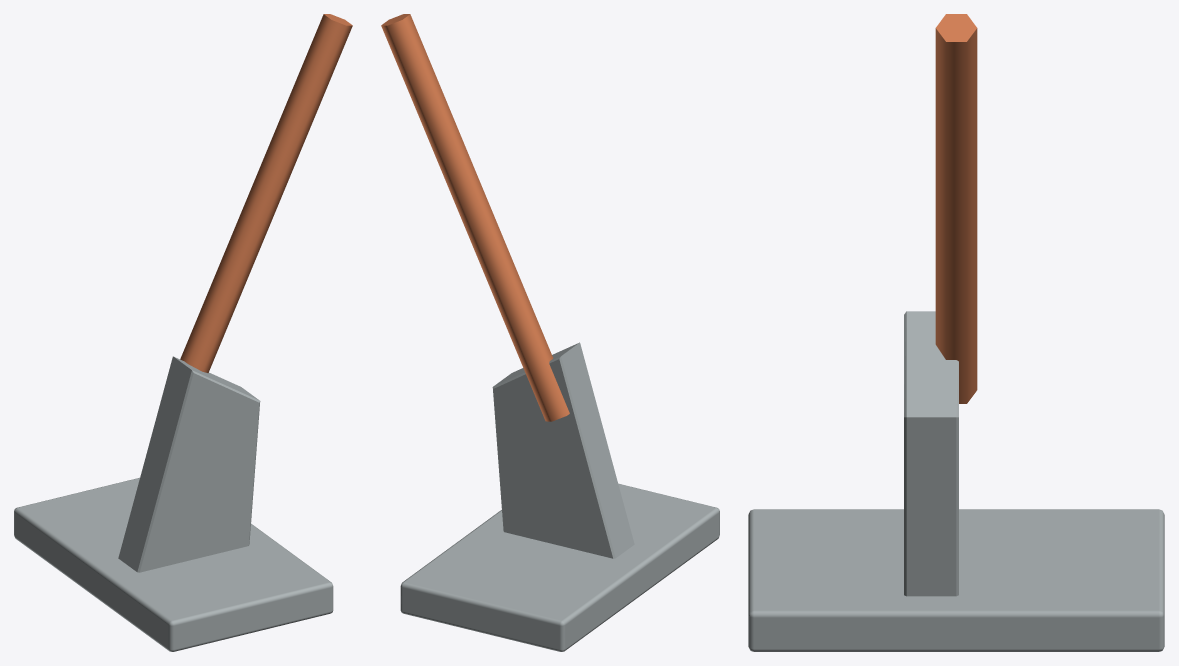
The model's file is salvage-and-repair-workshop-metal-shears-1f094d75__25490.glb.
3 views of the same model, side by side, from view 1: azimuth 30°, elevation 25°; view 2: azimuth 150°, elevation 25°; view 3: azimuth 270°, elevation 25° (orthographic). The views are drawn at different scales.
Visible parts, largest first — view 1: metal-shears, cutting-lever/signal; view 2: metal-shears, cutting-lever/signal; view 3: metal-shears, cutting-lever/signal.
Part boxes in pixels (<box>): metal-shears: <box>14,356,333,651</box>; cutting-lever/signal: <box>180,14,352,372</box>; metal-shears: <box>400,342,719,651</box>; cutting-lever/signal: <box>381,14,569,421</box>; metal-shears: <box>748,311,1164,651</box>; cutting-lever/signal: <box>935,14,977,403</box>.
Size of the model in its own units: 0.4695 by 0.9094 by 0.5.
